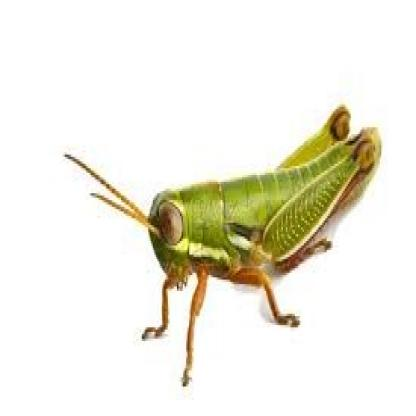grasshopper: (59, 101, 381, 382)
